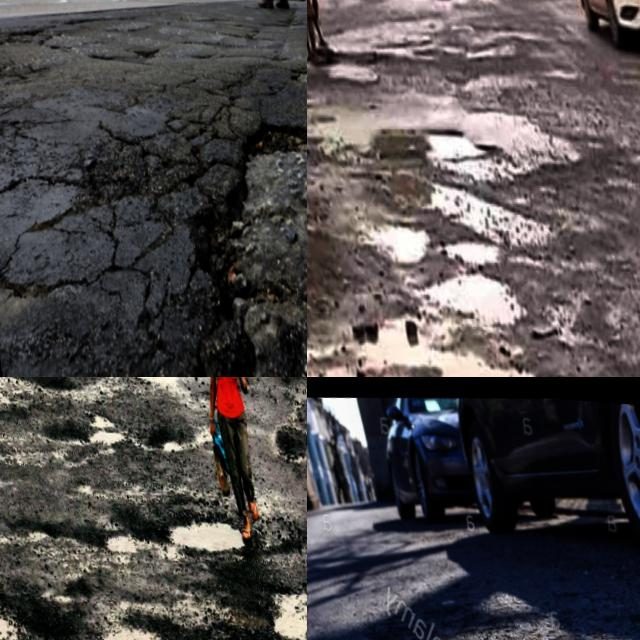Potholes: (136, 47, 307, 377), (341, 47, 569, 240), (311, 226, 572, 377), (23, 377, 178, 500), (0, 513, 66, 640), (387, 0, 522, 47), (194, 588, 307, 640), (64, 605, 201, 640), (262, 377, 307, 473)
